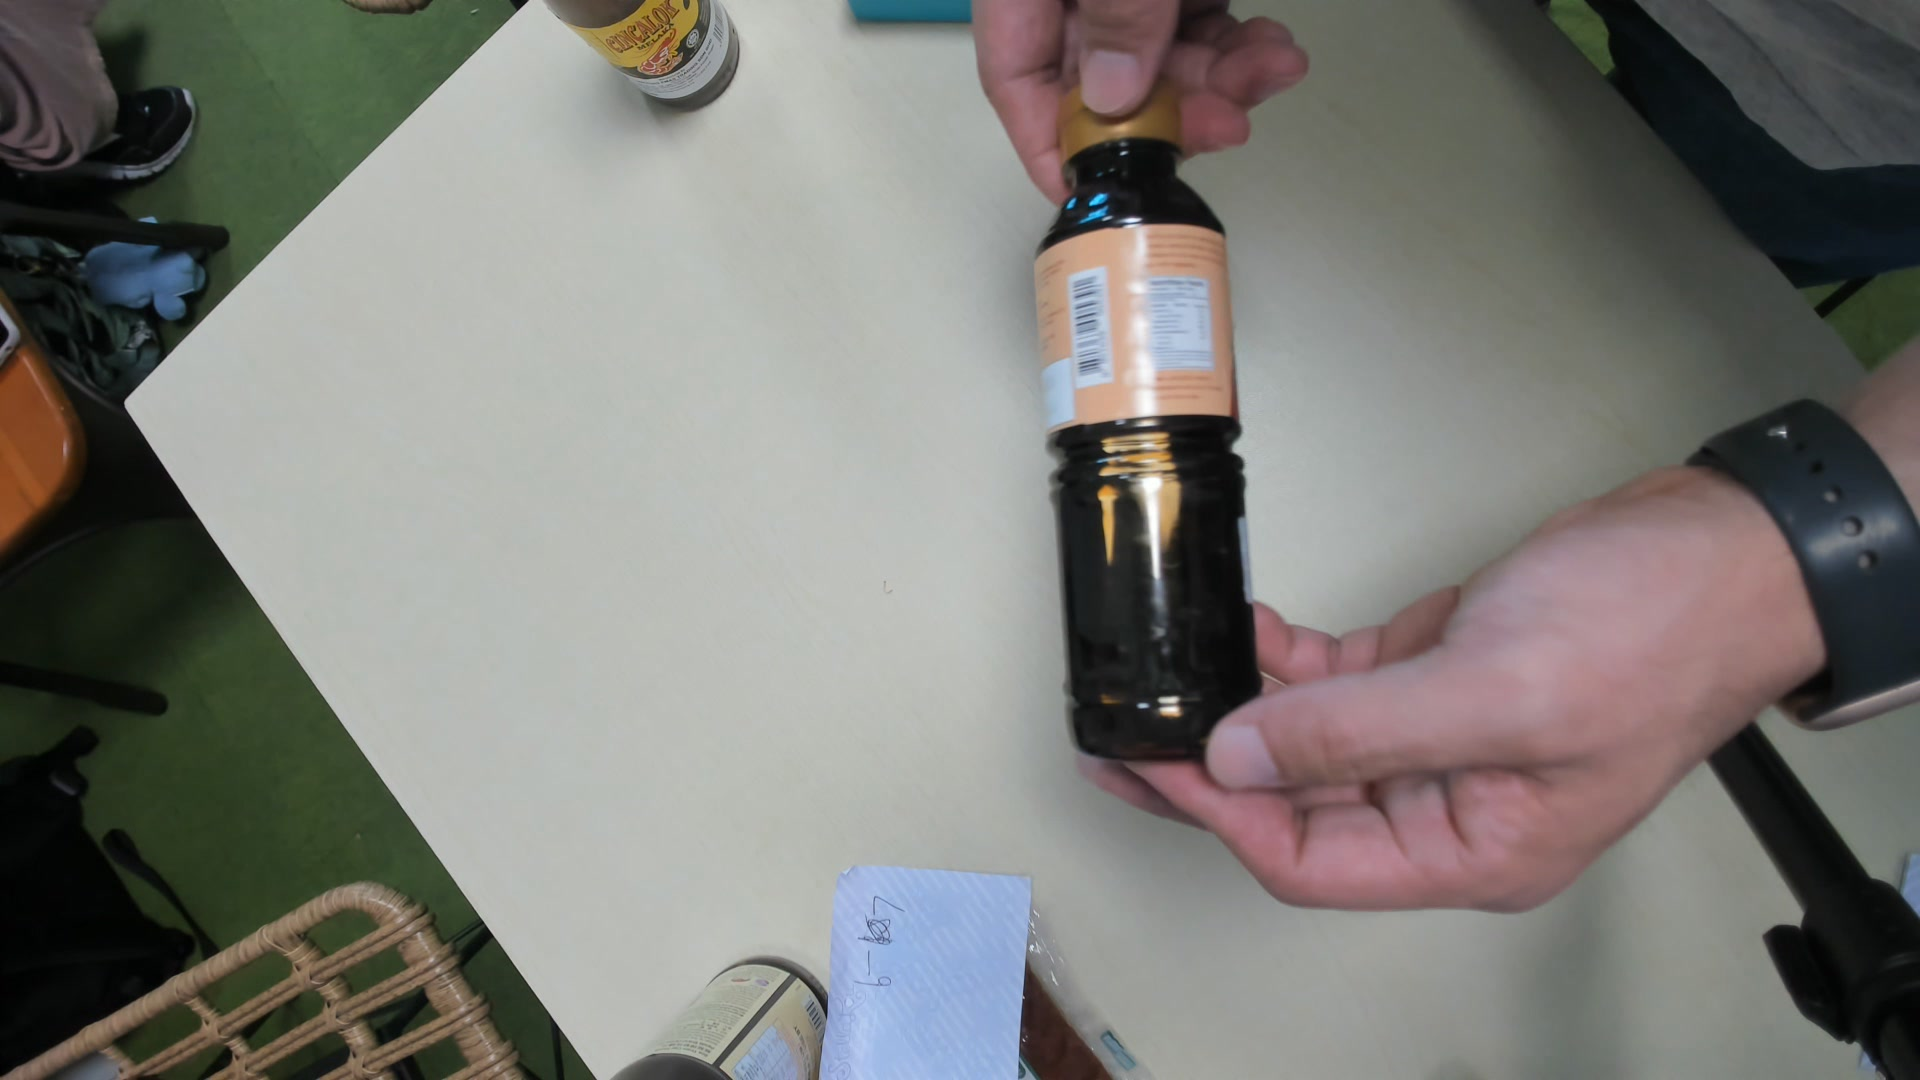OtherSauceDressingSoupbasePaste_200-299g_Halal_NonHealthy: (1031, 84, 1267, 766)
